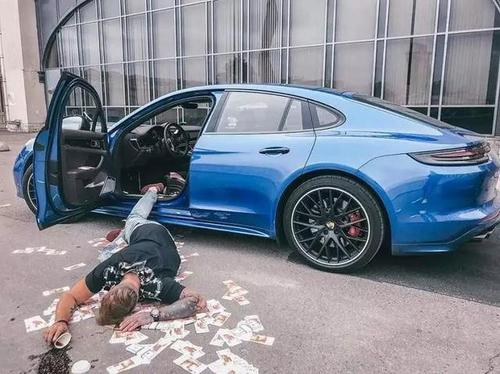fall: (43, 172, 210, 351)
